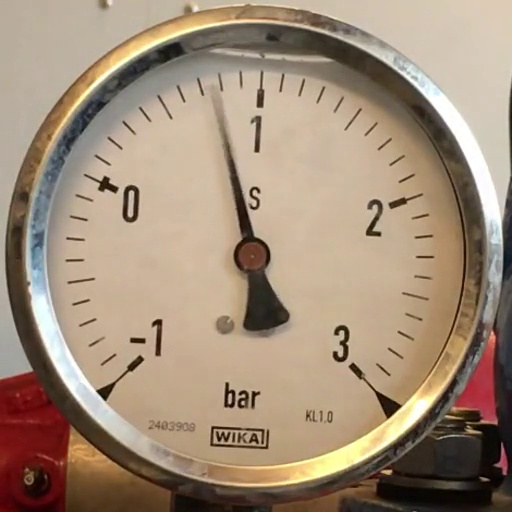base: (233, 238, 271, 272)
circle_plate: (46, 54, 466, 468)
maximum: (348, 362, 366, 380)
minimum: (126, 355, 144, 372)
number: (129, 318, 164, 357), (365, 198, 384, 238), (122, 184, 140, 224), (332, 324, 350, 363), (250, 114, 264, 154)
tip: (207, 81, 222, 95)
